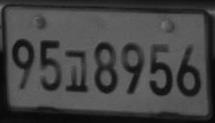5: (148, 44, 174, 97), (39, 39, 63, 91)
6: (175, 44, 202, 98)
8: (93, 40, 119, 95)
9: (119, 42, 146, 95), (11, 37, 35, 89)
고: (64, 50, 89, 92)
